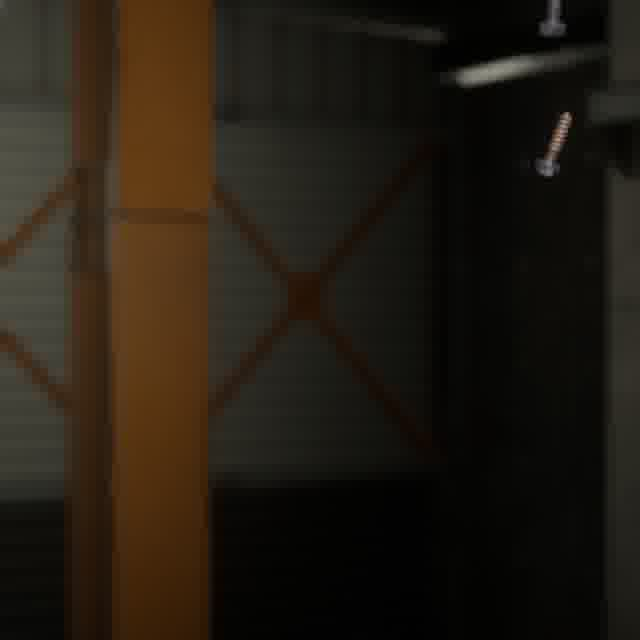bolt: (529, 107, 576, 181), (534, 0, 569, 41)
